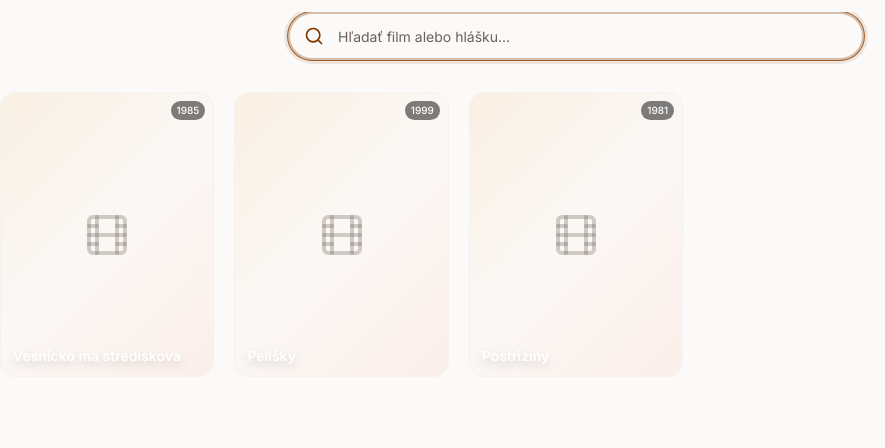
it: MovieSearch › shows matched audio tracks under card
Type "Famózní" into the field with placeholder "Hľadať film alebo hlášku...". click: (576, 36)
box: [288,12,864,60]
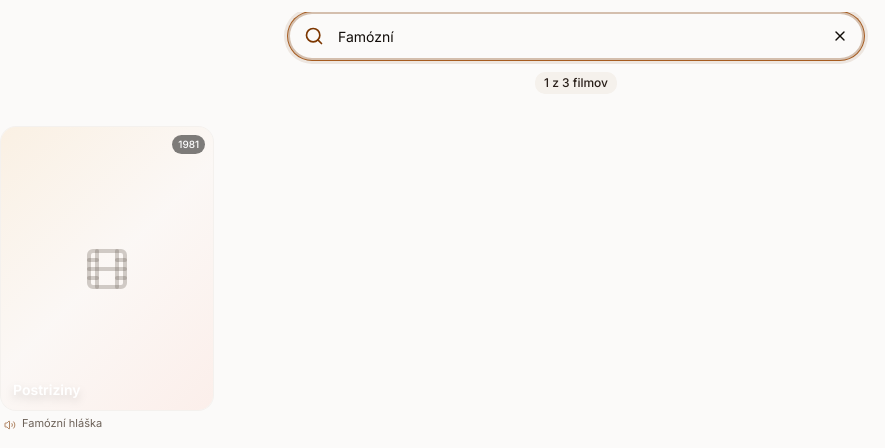
Now the text "Famózní hláška" is shown, box [22,417,102,431]
